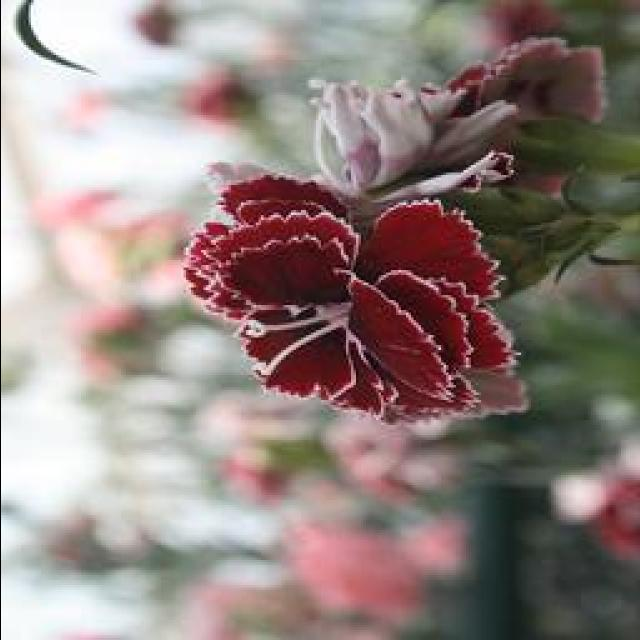carnation: (173, 156, 545, 440)
